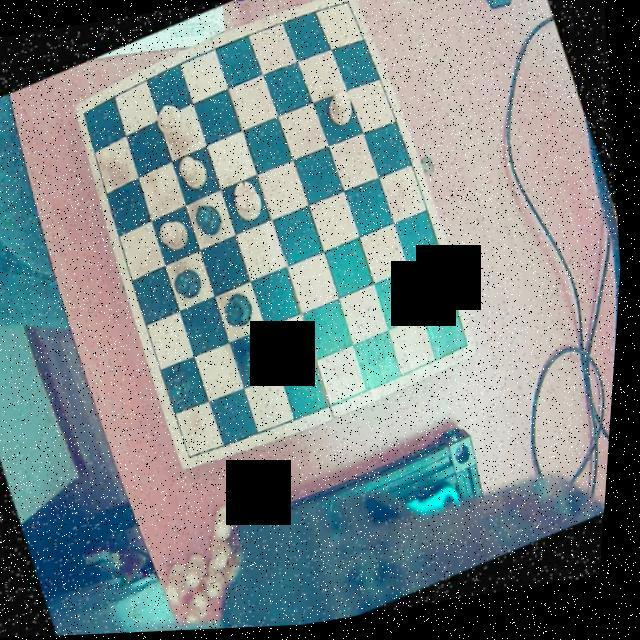chess-table-corners: (452, 332, 483, 364), (183, 442, 214, 472), (74, 99, 100, 132), (331, 0, 357, 19)
